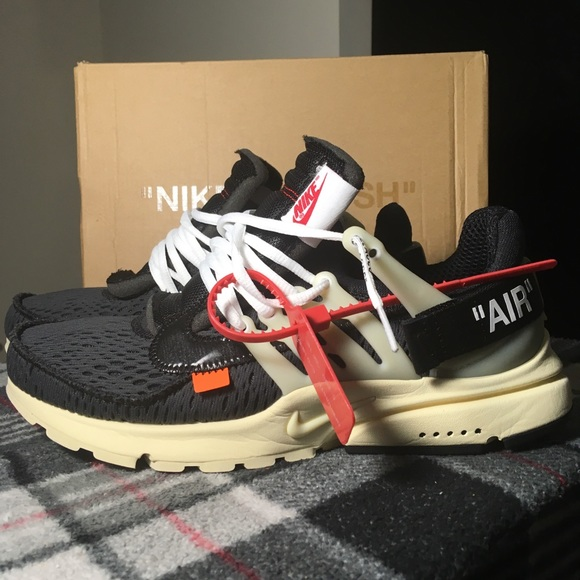Nike x OFF--WHITE Air Presto OG: (2, 132, 580, 489)
